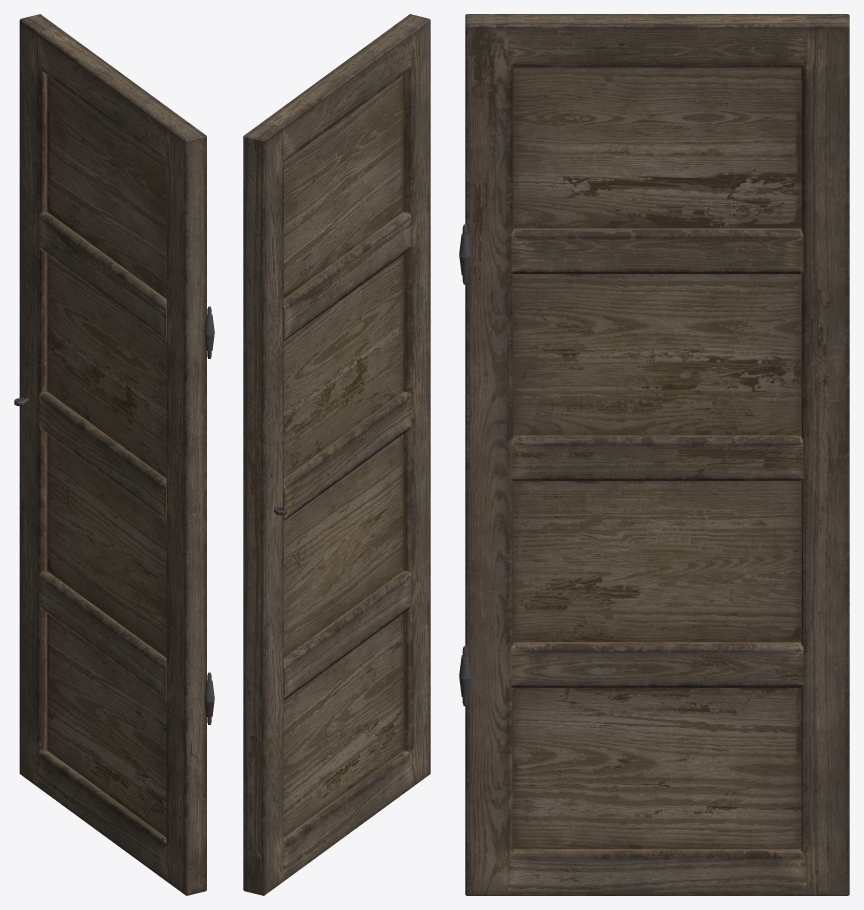
Rendered from SM_JWD_Door02a.fbx.
3 renders of one model, left to right at view 1: azimuth 30°, elevation 25°; view 2: azimuth 150°, elevation 25°; view 3: azimuth 270°, elevation 25°, orthographic. The views are drawn at different scales.
Visible parts, largest first — view 1: SM_JWD_Door02a; view 2: SM_JWD_Door02a; view 3: SM_JWD_Door02a.
Part boxes in pixels (box(x1,y1,x2,y2)): SM_JWD_Door02a: box(14, 14, 214, 895); SM_JWD_Door02a: box(243, 14, 430, 895); SM_JWD_Door02a: box(459, 14, 849, 895).
Size of the model in its own units: 11.53 by 81.23 by 200.
Materials: 1 (1 with a texture image).
